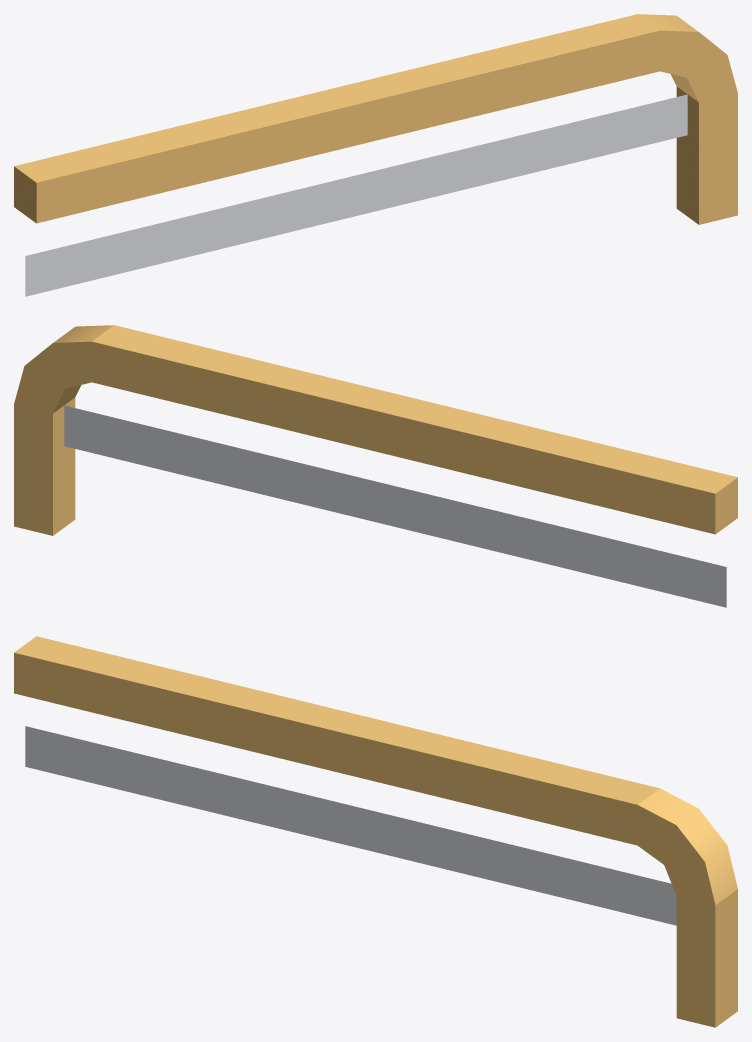
File: space_rail_end.glb
3 renders of one model, top to bottom at view 1: azimuth 30°, elevation 25°; view 2: azimuth 150°, elevation 25°; view 3: azimuth 330°, elevation 25°, orthographic.
Visible parts, largest first — view 1: rail_end; view 2: rail_end; view 3: rail_end.
Part boxes in pixels (bbox=[...]): rail_end: bbox=[14, 14, 737, 296]; rail_end: bbox=[14, 325, 737, 607]; rail_end: bbox=[14, 636, 737, 1027].
Bounding box in the file's own units: 0.9 × 0.25 × 0.05.
